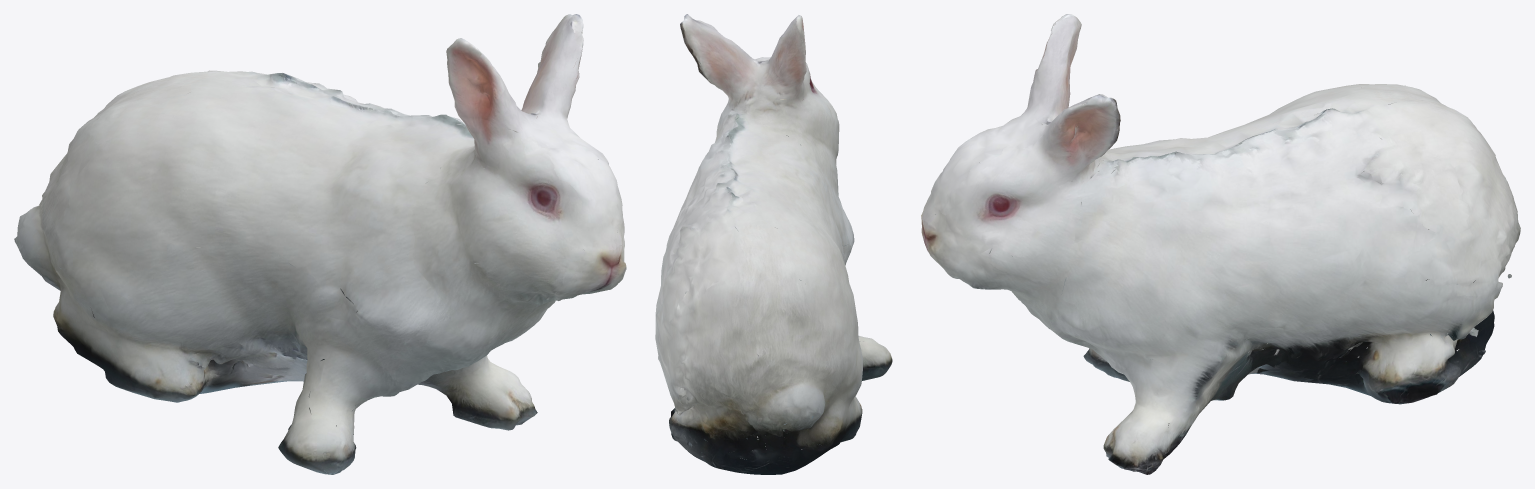
The model's file is rabbit.glb.
The picture shows the model from 3 angles, left to right: view 1: azimuth 30°, elevation 25°; view 2: azimuth 150°, elevation 25°; view 3: azimuth 270°, elevation 25°; orthographic projection. The views are drawn at different scales.
Visible parts, largest first — view 1: Object_2, Object_3, Object_5, Object_4; view 2: Object_5, Object_4, Object_2, Object_3; view 3: Object_3, Object_5, Object_4, Object_2.
Boxes of the visible parts, bbox=[...] form: Object_2: bbox=[55, 38, 620, 427]; Object_3: bbox=[81, 19, 622, 474]; Object_5: bbox=[14, 14, 626, 473]; Object_4: bbox=[23, 71, 623, 426]; Object_5: bbox=[655, 14, 863, 459]; Object_4: bbox=[659, 193, 862, 474]; Object_2: bbox=[674, 15, 868, 466]; Object_3: bbox=[655, 16, 892, 451]; Object_3: bbox=[922, 71, 1497, 439]; Object_5: bbox=[924, 16, 1494, 471]; Object_4: bbox=[929, 84, 1520, 404]; Object_2: bbox=[921, 14, 1511, 474].
Bounding box in the file's own units: 0.9394 × 1.05 × 1.36.
4 materials, 4 textured.
